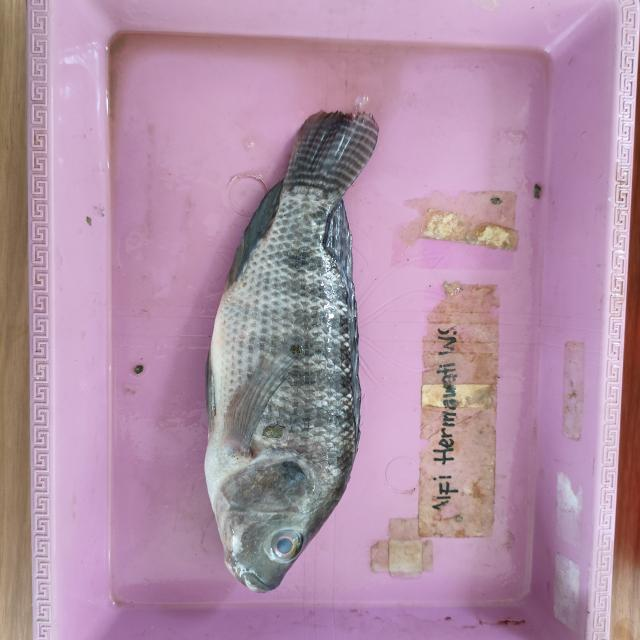Fresh: (202, 233, 363, 598), (269, 527, 306, 567)
